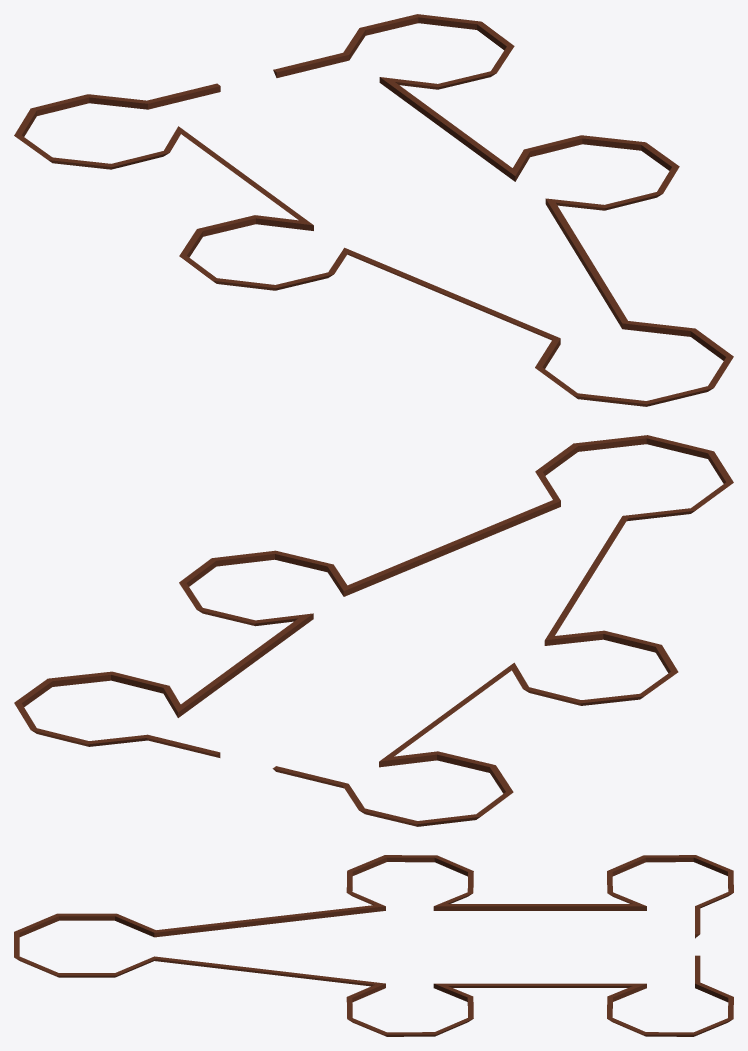
File: ship wall.fbx
3 views of the same model, one above another, from view 1: azimuth 30°, elevation 25°; view 2: azimuth 150°, elevation 25°; view 3: azimuth 270°, elevation 25° (orthographic). The views are drawn at different scales.
Visible parts, largest first — view 1: wall; view 2: wall; view 3: wall.
Boxes of the visible parts, left/top/right/bottom form: wall: left=14, top=14, right=733, bottom=406; wall: left=14, top=435, right=733, bottom=826; wall: left=14, top=855, right=733, bottom=1036.
Size of the model in its own units: 902 by 10.78 by 1529.
